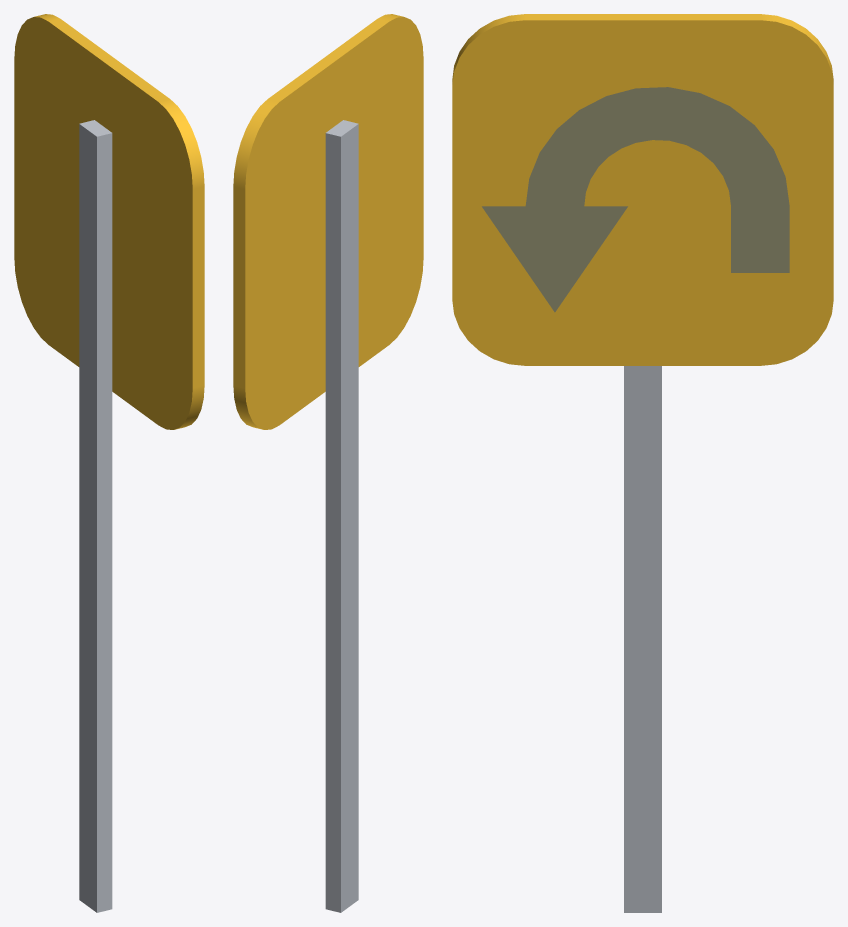
File: signPointLeft180.fbx
3 renders of one model, left to right at view 1: azimuth 30°, elevation 25°; view 2: azimuth 150°, elevation 25°; view 3: azimuth 270°, elevation 25°, orthographic. The views are drawn at different scales.
Parts seen in each view (by area): view 1: signPointLeft180; view 2: signPointLeft180; view 3: signPointLeft180.
Part boxes in pixels (x1,y1,x2,y2): signPointLeft180: [14, 14, 204, 912]; signPointLeft180: [233, 14, 423, 912]; signPointLeft180: [452, 14, 833, 912].
Bounding box in the file's own units: 13.7 × 403 × 155.
